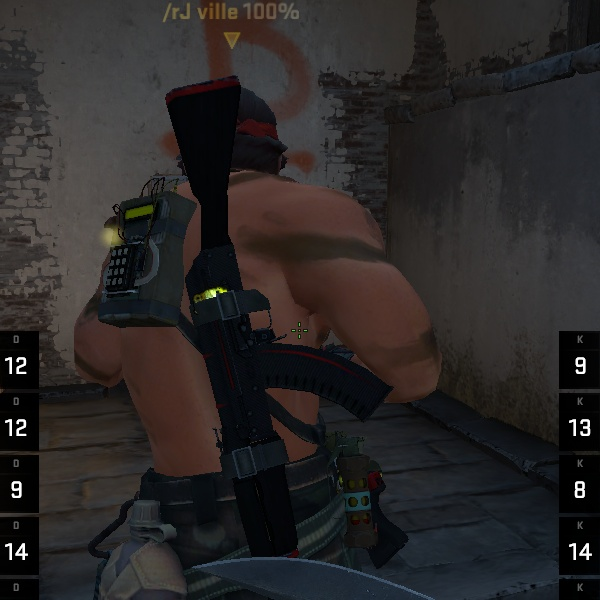t_body: (24, 18, 494, 575)
t_head: (3, 18, 525, 573)
